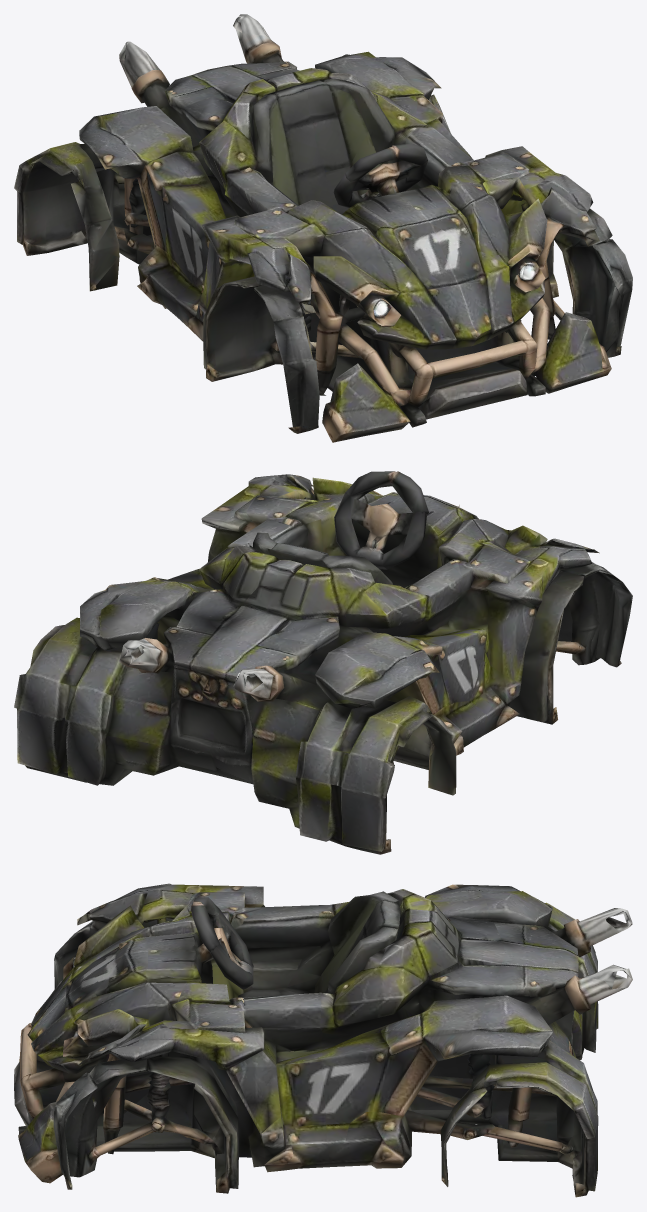
The model's file is body.glb.
3 views of the same model, one above another, from view 1: azimuth 30°, elevation 25°; view 2: azimuth 150°, elevation 25°; view 3: azimuth 270°, elevation 25° (orthographic). The views are drawn at different scales.
Parts seen in each view (by area): view 1: tripo_node_160b2dbc-6863-4647-a8b6-91ed9b1cba88; view 2: tripo_node_160b2dbc-6863-4647-a8b6-91ed9b1cba88; view 3: tripo_node_160b2dbc-6863-4647-a8b6-91ed9b1cba88.
Part boxes in pixels (<box>): tripo_node_160b2dbc-6863-4647-a8b6-91ed9b1cba88: <box>14,14,632,442</box>; tripo_node_160b2dbc-6863-4647-a8b6-91ed9b1cba88: <box>14,471,632,854</box>; tripo_node_160b2dbc-6863-4647-a8b6-91ed9b1cba88: <box>14,883,632,1197</box>.
Bounding box in the file's own units: 0.7098 × 0.3784 × 0.9991.
1 material, 1 textured.
